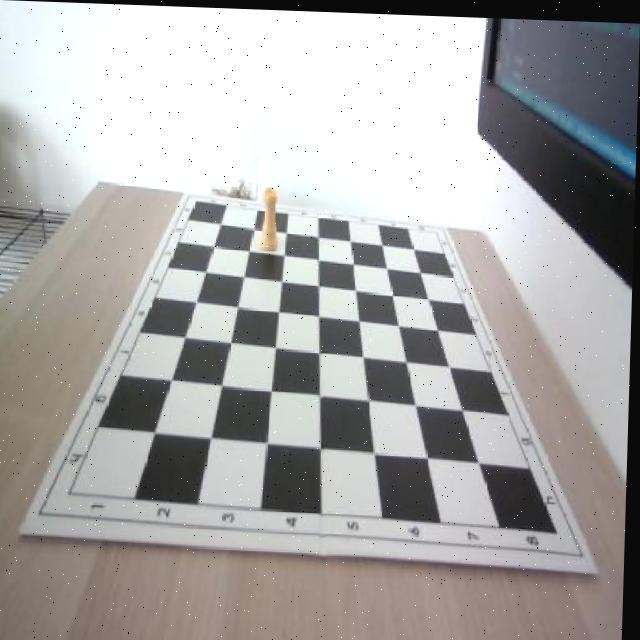white-queen: (259, 184, 283, 251)
